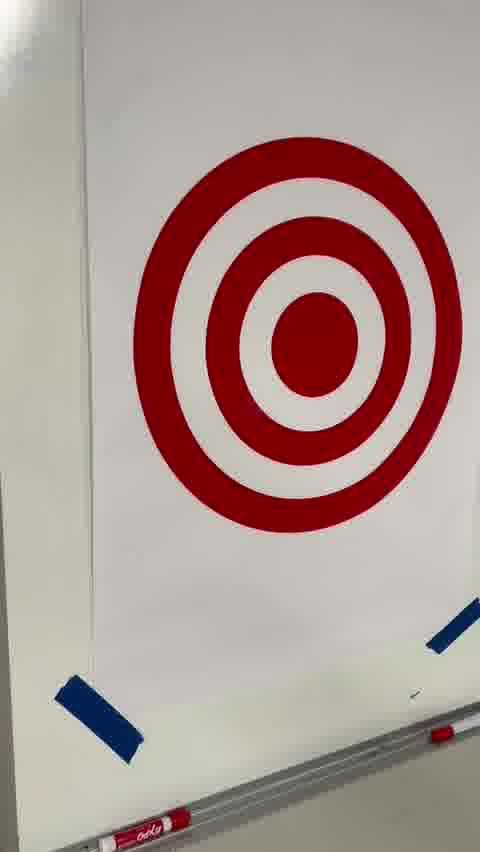target_red: (130, 137, 464, 535)
